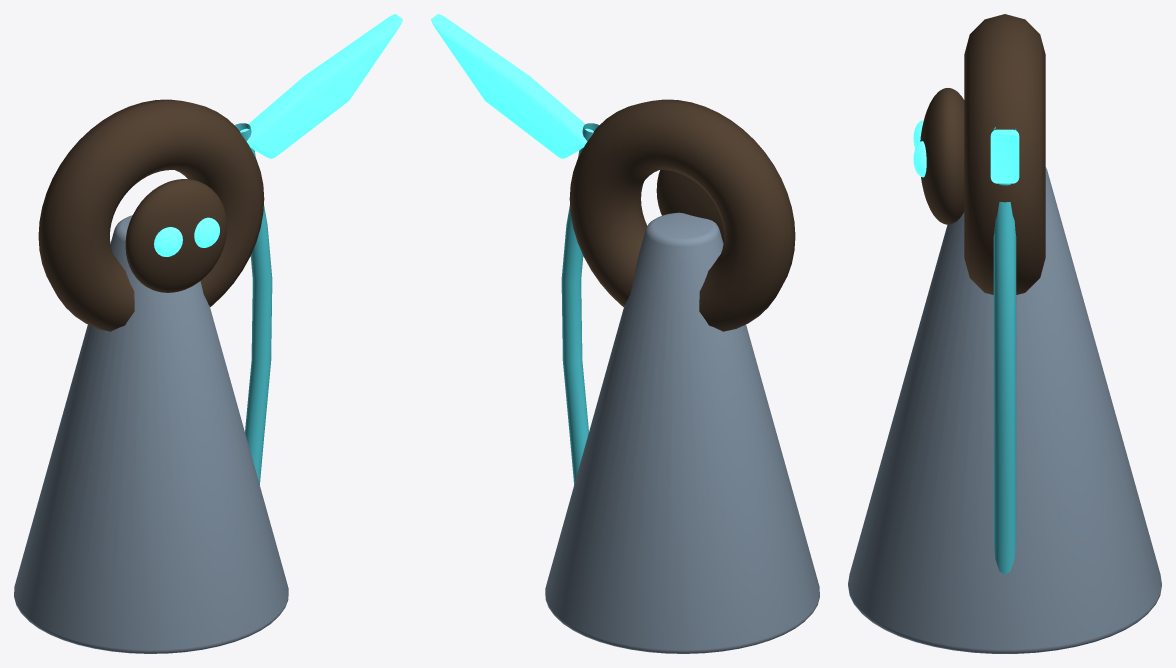
File: wraith_v6.glb
3 renders of one model, left to right at view 1: azimuth 30°, elevation 25°; view 2: azimuth 150°, elevation 25°; view 3: azimuth 270°, elevation 25°, orthographic. The views are drawn at different scales.
Parts seen in each view (by area): view 1: REAPER_ROBE_PRIMARY, REAPER_HOOD_SECONDARY, REAPER_VOID_SECONDARY, REAPER_SCYTHE_EMISSIVE, REAPER_SCYTHE_SHAFT_ACCENT, EYE_EMISSIVE, EYE_EMISSIVE.001; view 2: REAPER_ROBE_PRIMARY, REAPER_HOOD_SECONDARY, REAPER_SCYTHE_EMISSIVE, REAPER_SCYTHE_SHAFT_ACCENT, REAPER_VOID_SECONDARY; view 3: REAPER_ROBE_PRIMARY, REAPER_HOOD_SECONDARY, REAPER_SCYTHE_SHAFT_ACCENT, REAPER_VOID_SECONDARY, REAPER_SCYTHE_EMISSIVE.
Part boxes in pixels (x1,y1,x2,y2): REAPER_ROBE_PRIMARY: (14, 215, 288, 653); REAPER_HOOD_SECONDARY: (38, 99, 264, 331); REAPER_VOID_SECONDARY: (125, 179, 227, 292); REAPER_SCYTHE_EMISSIVE: (240, 14, 402, 158); REAPER_SCYTHE_SHAFT_ACCENT: (234, 123, 272, 484); EYE_EMISSIVE: (154, 227, 182, 256); EYE_EMISSIVE.001: (194, 217, 219, 247); REAPER_ROBE_PRIMARY: (545, 212, 819, 653); REAPER_HOOD_SECONDARY: (569, 99, 795, 331); REAPER_SCYTHE_EMISSIVE: (431, 14, 593, 158); REAPER_SCYTHE_SHAFT_ACCENT: (561, 123, 599, 484); REAPER_VOID_SECONDARY: (656, 170, 723, 243); REAPER_ROBE_PRIMARY: (848, 167, 1161, 653); REAPER_HOOD_SECONDARY: (964, 14, 1045, 294); REAPER_SCYTHE_SHAFT_ACCENT: (993, 127, 1016, 574); REAPER_VOID_SECONDARY: (920, 88, 964, 224); REAPER_SCYTHE_EMISSIVE: (990, 129, 1019, 183).
Size of the model in its own units: 2.38 by 3.22 by 1.54.
